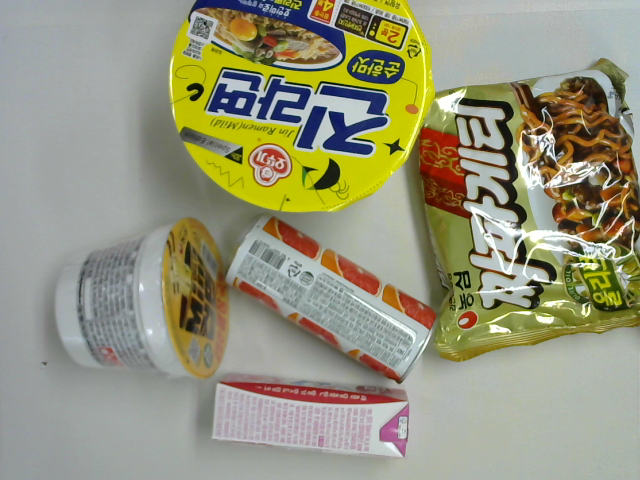Demisoda_Grapefruit_Can_250ml: (216, 210, 438, 386)
Hejangmini: (53, 217, 229, 387)
Jinlamyeon_Mild_Taste_Large_Cup: (164, 1, 438, 218)
Olive_Chapaghetti: (414, 56, 640, 361)
Strawberry_E_Mong: (207, 374, 412, 462)
